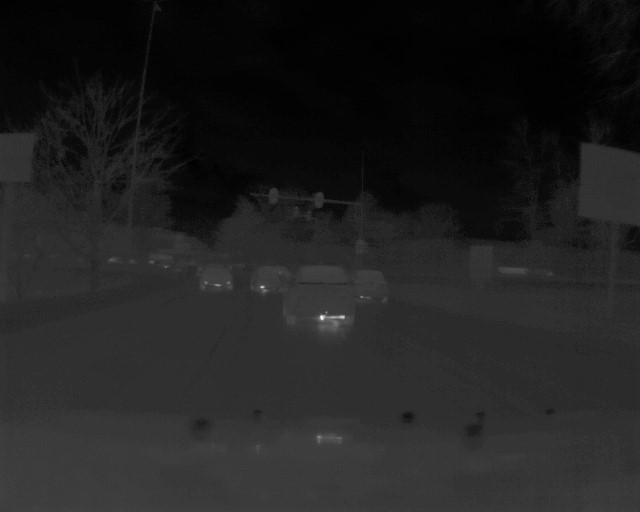car: (281, 264, 356, 328), (348, 269, 390, 304), (247, 266, 293, 297), (198, 263, 232, 289)
